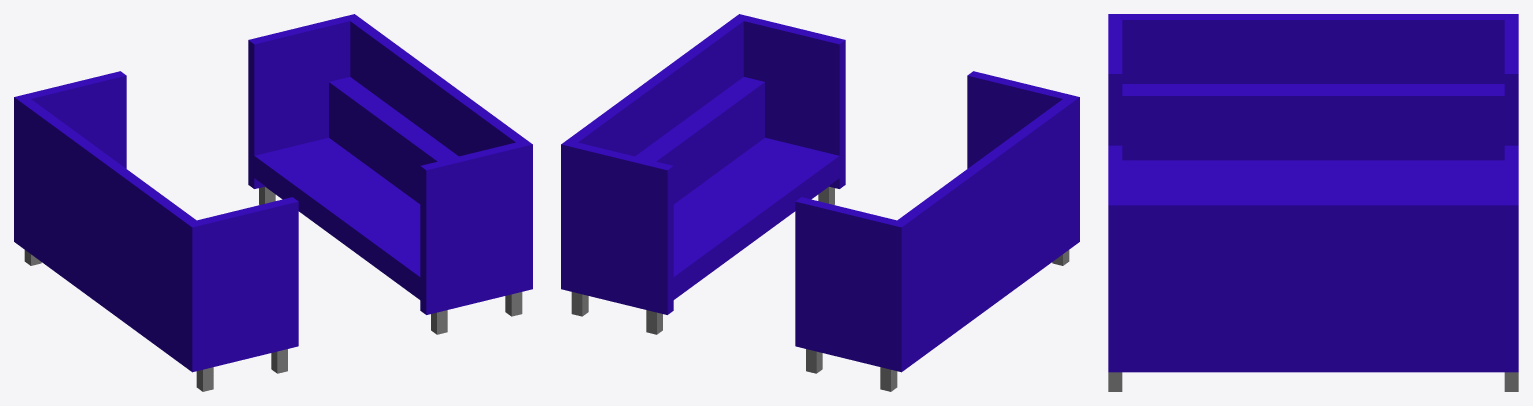
File: dice_2og-31-fast_meeting_sofa.obj
3 renders of one model, left to right at view 1: azimuth 30°, elevation 25°; view 2: azimuth 150°, elevation 25°; view 3: azimuth 270°, elevation 25°, orthographic. The views are drawn at different scales.
Parts seen in each view (by area): view 1: fast_meeting_sofa; view 2: fast_meeting_sofa; view 3: fast_meeting_sofa.
Part boxes in pixels (x1,y1,x2,y2): fast_meeting_sofa: (14,14,532,391); fast_meeting_sofa: (561,14,1079,391); fast_meeting_sofa: (1108,14,1518,391).
Size of the model in its own units: 3.2 by 1.5 by 2.9.
Materials: 1 (1 with a texture image).
